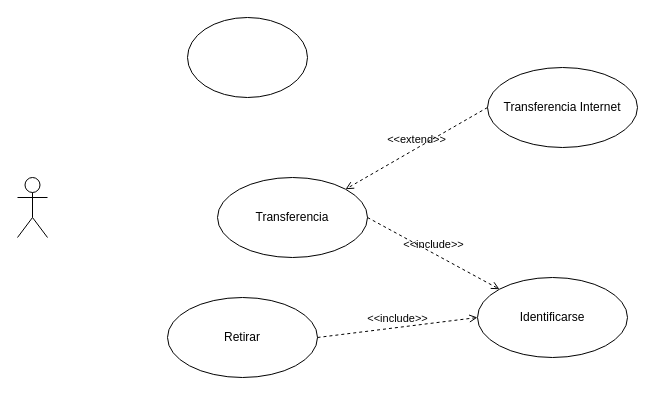
Some shapes in this 655 by 395 pixel diagram are drawn without their labels. Here are the shapes that lost their labels. From the top down, the centre of each, then its label:
(247,57): Ingresar
(32,207): Actor
